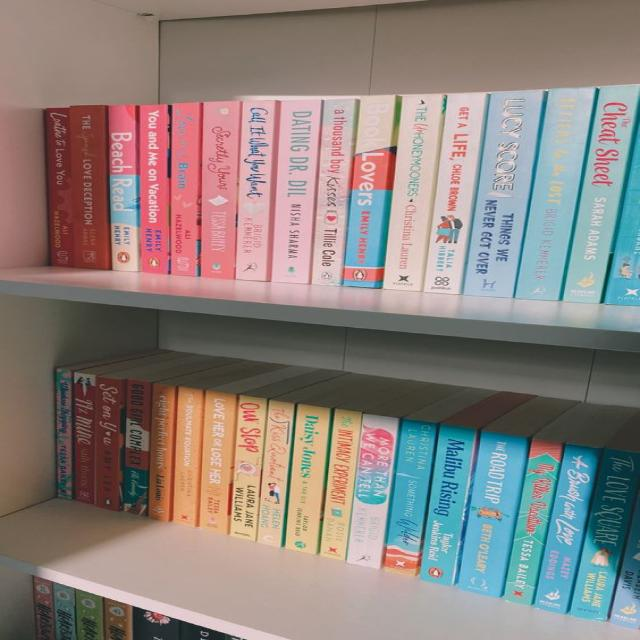book: (460, 90, 544, 298), (516, 89, 597, 300), (562, 89, 640, 303), (423, 93, 487, 294), (570, 447, 640, 620), (382, 94, 443, 291), (458, 430, 529, 597), (533, 444, 602, 614), (502, 438, 565, 605), (419, 423, 478, 586), (345, 95, 395, 287), (270, 100, 322, 284), (382, 418, 437, 577), (348, 413, 402, 569), (312, 98, 356, 285), (285, 403, 332, 553), (201, 102, 240, 279), (237, 100, 274, 281), (68, 106, 108, 269), (321, 408, 363, 560), (197, 389, 236, 535), (257, 400, 294, 548), (228, 394, 265, 541), (107, 105, 138, 272), (138, 105, 168, 274), (170, 102, 199, 276), (170, 386, 204, 527), (46, 108, 74, 267), (123, 379, 152, 515), (147, 382, 174, 521), (96, 376, 121, 511), (73, 371, 96, 504), (57, 368, 72, 501)
